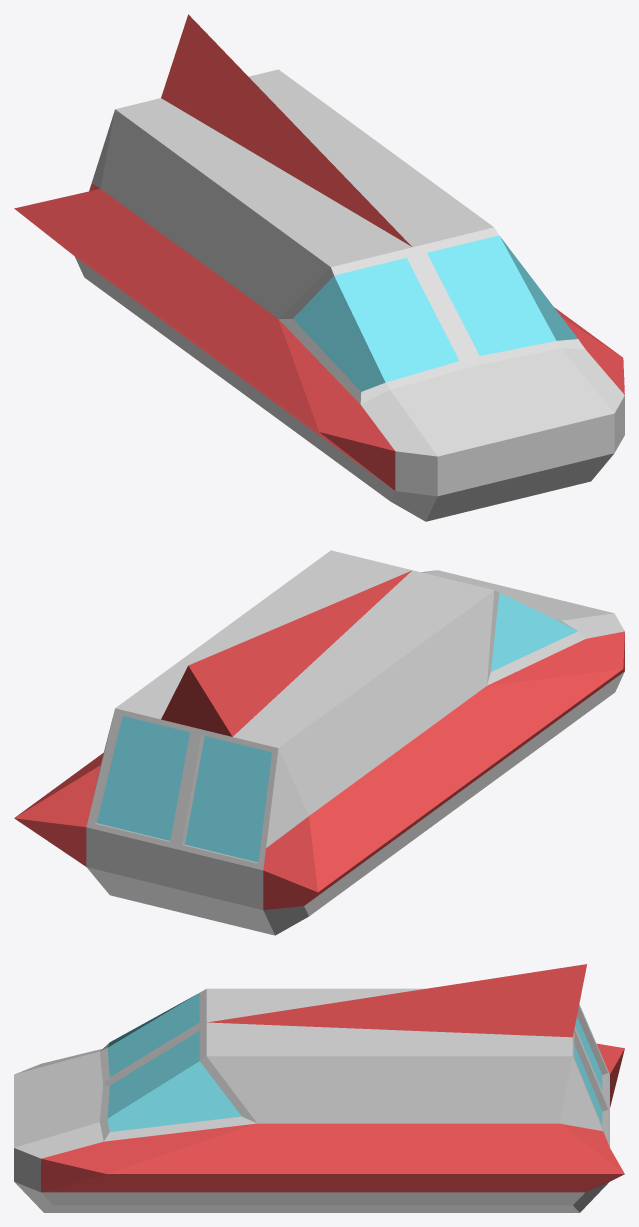
File: Van1.fbx
3 views of the same model, one above another, from view 1: azimuth 30°, elevation 25°; view 2: azimuth 150°, elevation 25°; view 3: azimuth 270°, elevation 25° (orthographic). The views are drawn at different scales.
Visible parts, largest first — view 1: Cube; view 2: Cube; view 3: Cube.
Boxes of the visible parts, bbox=[...] form: Cube: bbox=[14, 14, 624, 521]; Cube: bbox=[14, 550, 624, 935]; Cube: bbox=[14, 964, 624, 1212].
Size of the model in its own units: 4 by 3.18 by 8.2.
